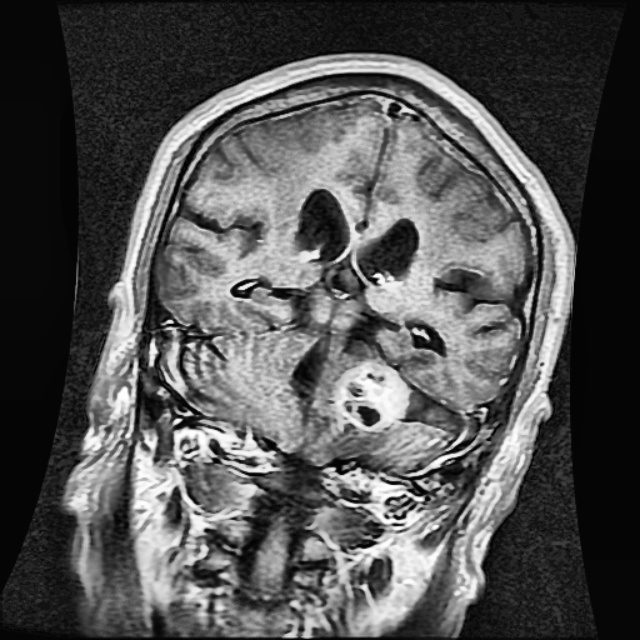Glioma: (334, 359, 409, 428)
